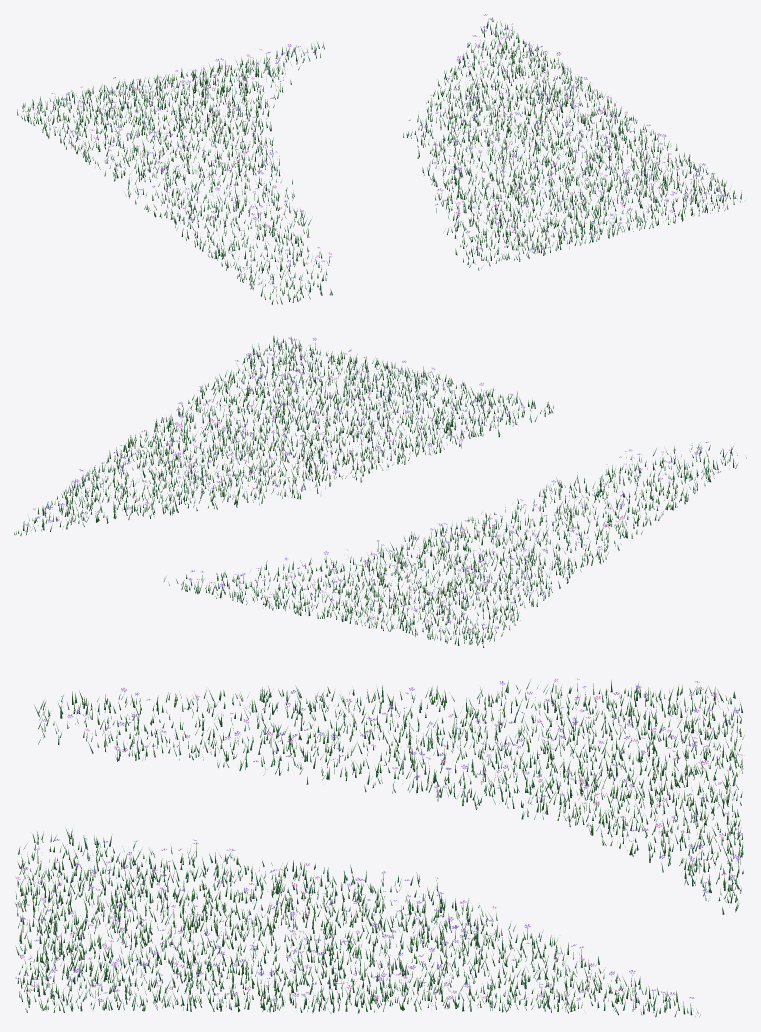
3 renders of one model, top to bottom at view 1: azimuth 30°, elevation 25°; view 2: azimuth 150°, elevation 25°; view 3: azimuth 270°, elevation 25°, orthographic. The views are drawn at different scales.
Parts seen in each view (by area): view 1: gc_19; view 2: gc_19; view 3: gc_19.
Boxes of the visible parts, bbox=[...] form: gc_19: bbox=[17, 14, 745, 304]; gc_19: bbox=[14, 336, 746, 647]; gc_19: bbox=[15, 678, 744, 1017].
Bounding box in the file's own units: 18.18 × 0.9941 × 18.17.
Materials: 1 (1 with a texture image).
